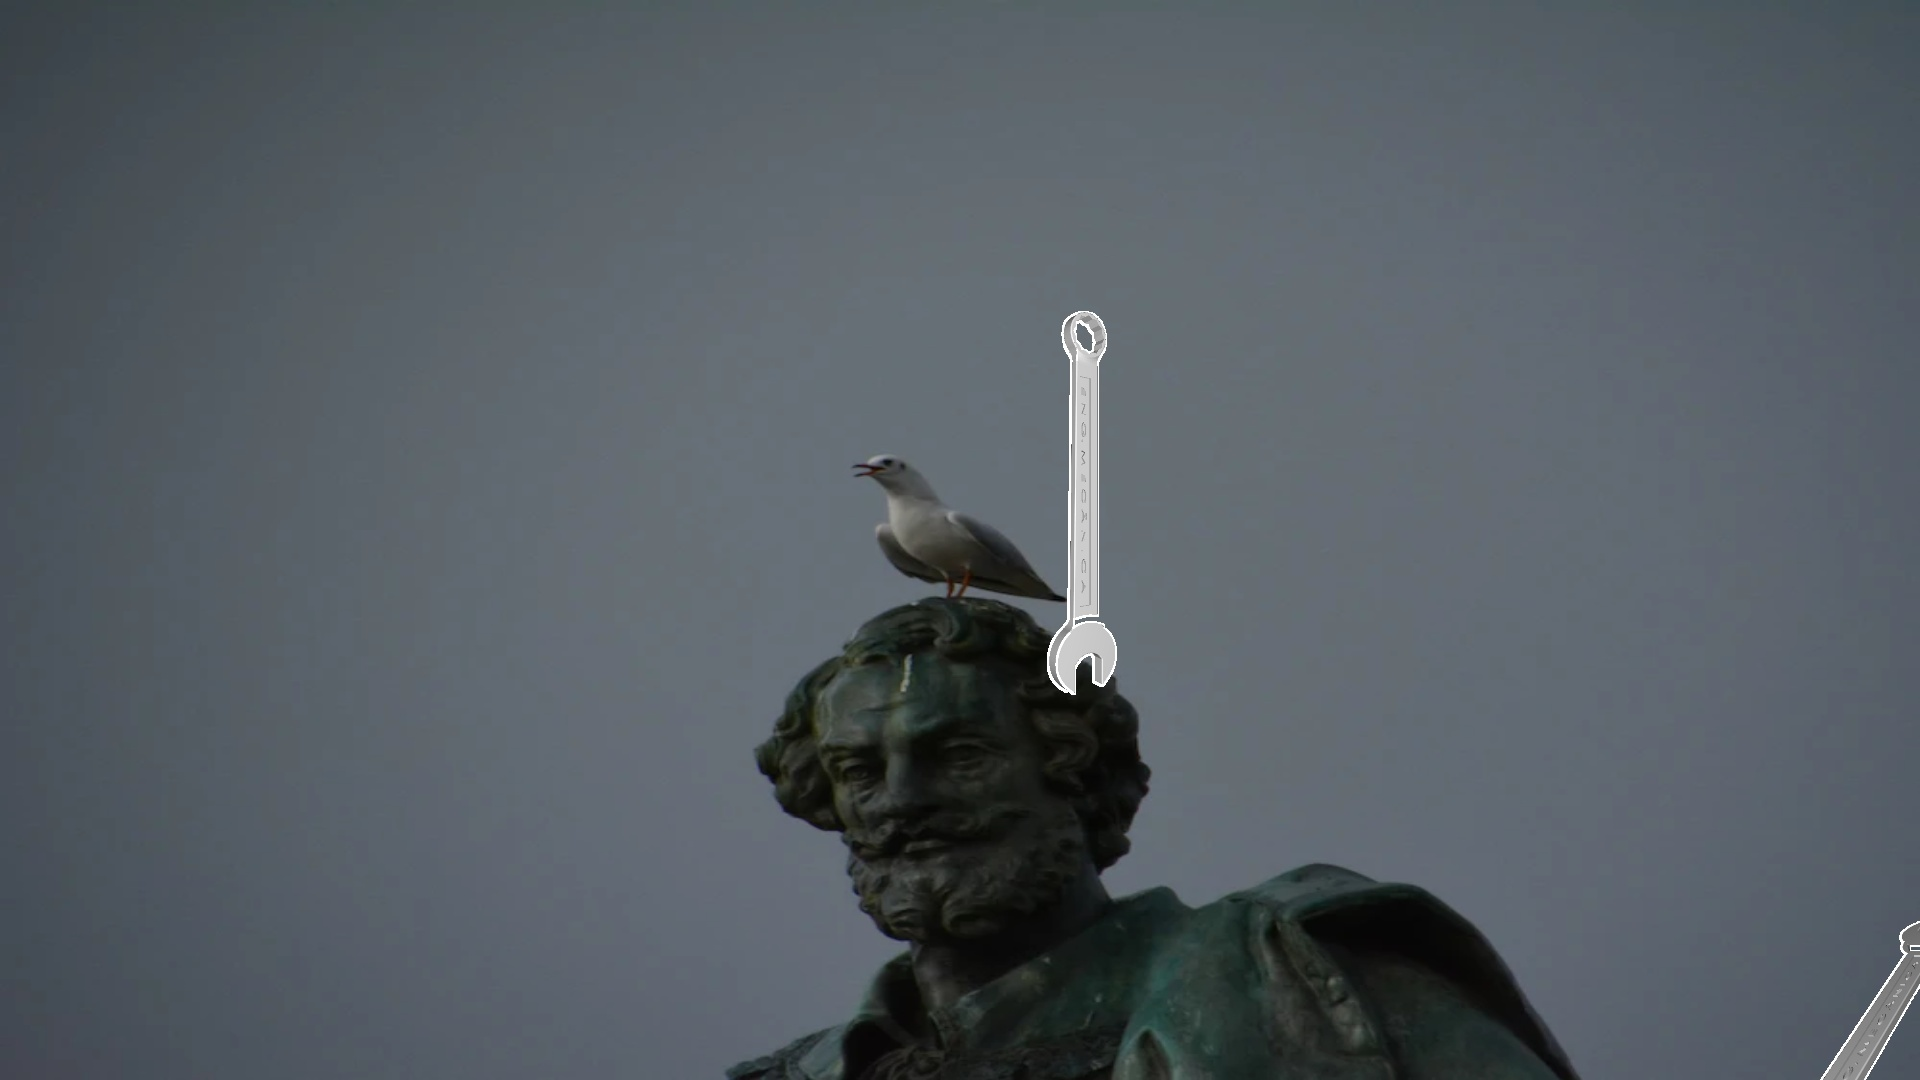Mixed Key: (1047, 311, 1116, 694), (1820, 920, 1919, 1079)
